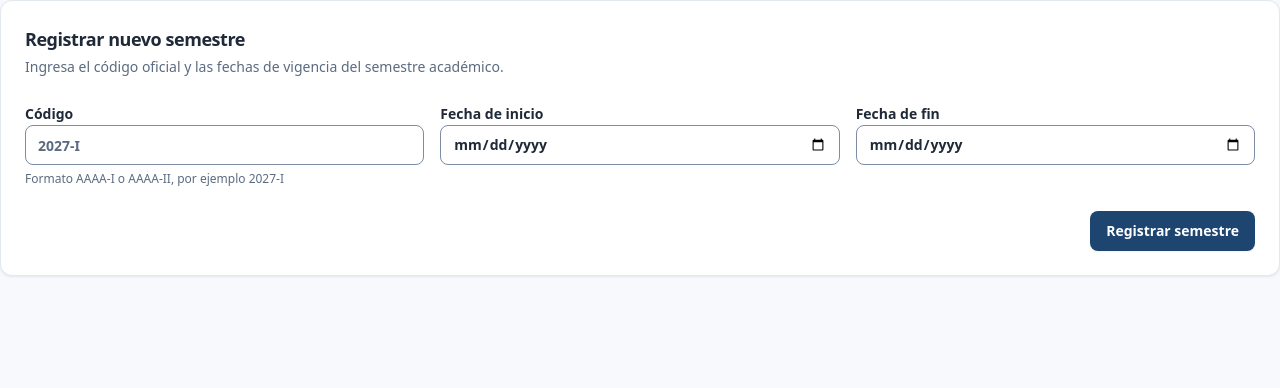
Test: SemesterForm Component (HU-010, T-010-18) › displays danger alert with server message on 409 overlapping date error (CA2)
Step 1. Type "2027-II" into the field labelled "Código" → (225, 145), box [25,125,424,165]
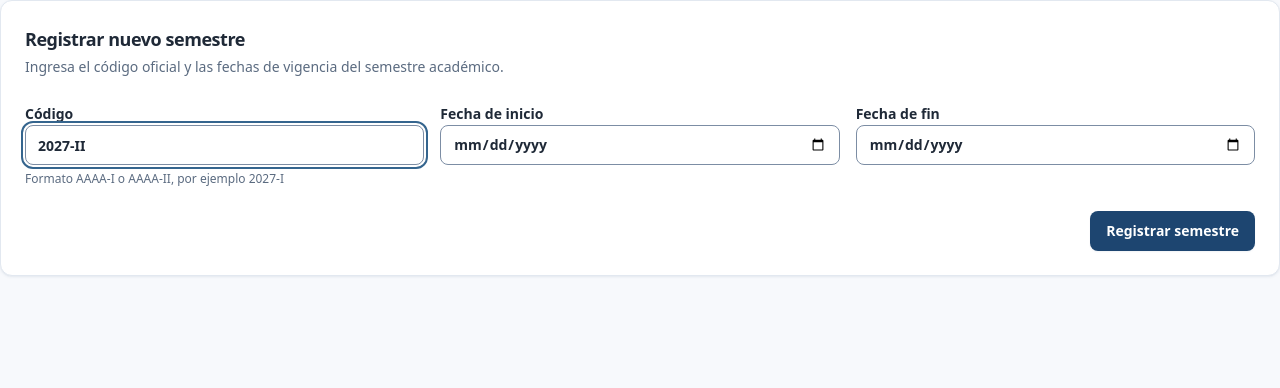
Step 2. Type "2027-06-01" into the date field labelled "Fecha de inicio" → (640, 145), box [440,125,840,165]
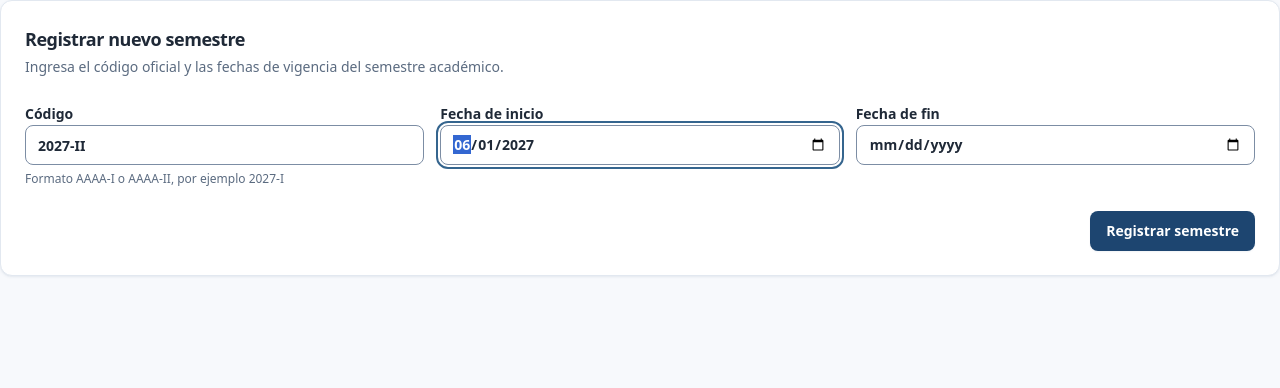
Step 3. Type "2027-10-01" into the date field labelled "Fecha de fin" → (1055, 145), box [856,125,1255,165]
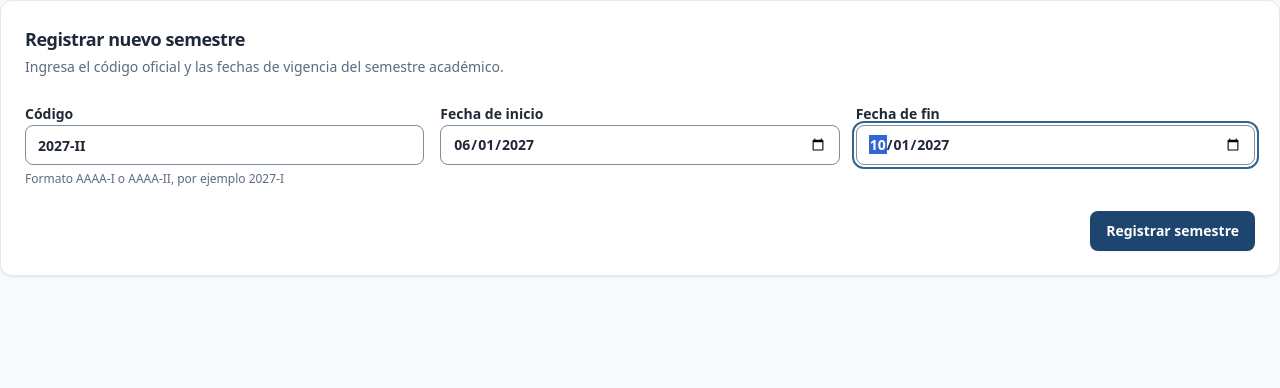
Step 4. Click the button "Registrar semestre" → (1173, 231), box [1090,211,1255,251]
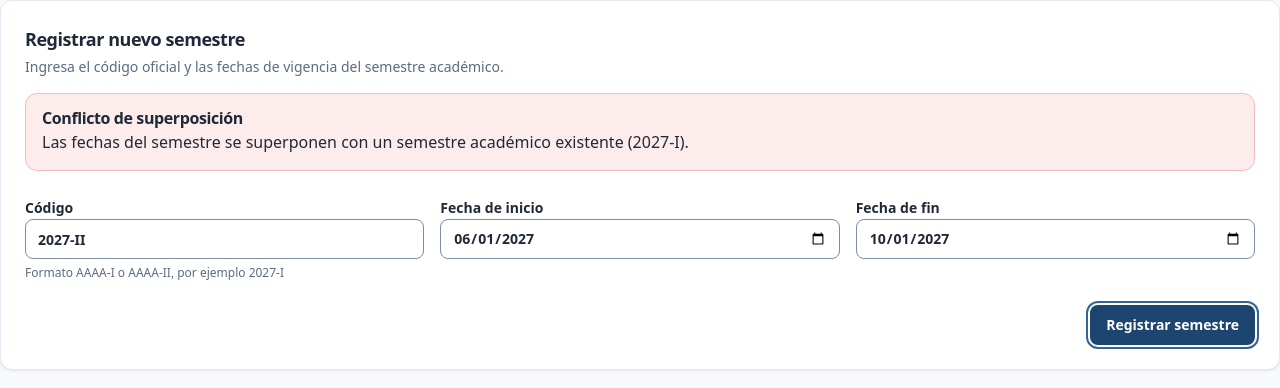
Now the heading "Conflicto de superposición" is shown, box [42,107,243,129]
Now the text "Las fechas del semestre se superponen con un semestre académico existente (2027-I)." is shown, box [42,131,689,153]
